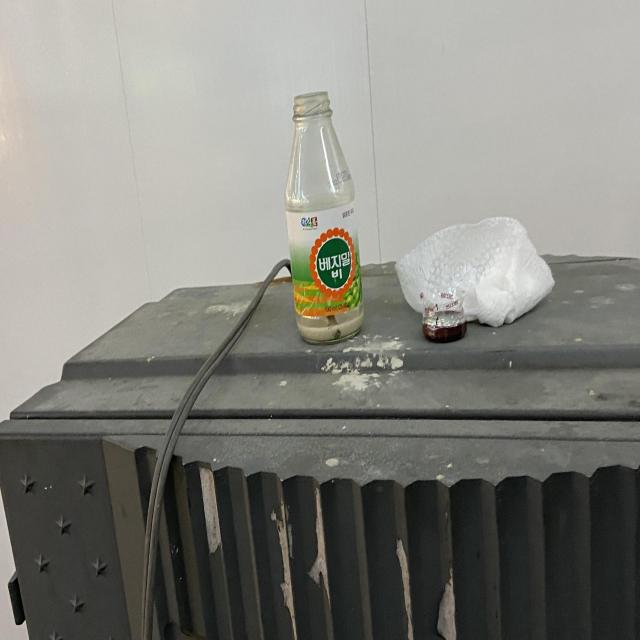glass: (285, 91, 364, 343)
